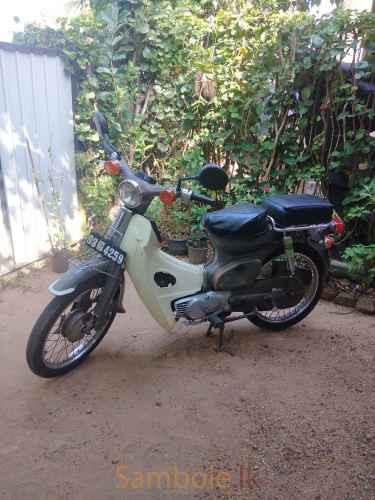motorbike: (25, 112, 343, 378)
